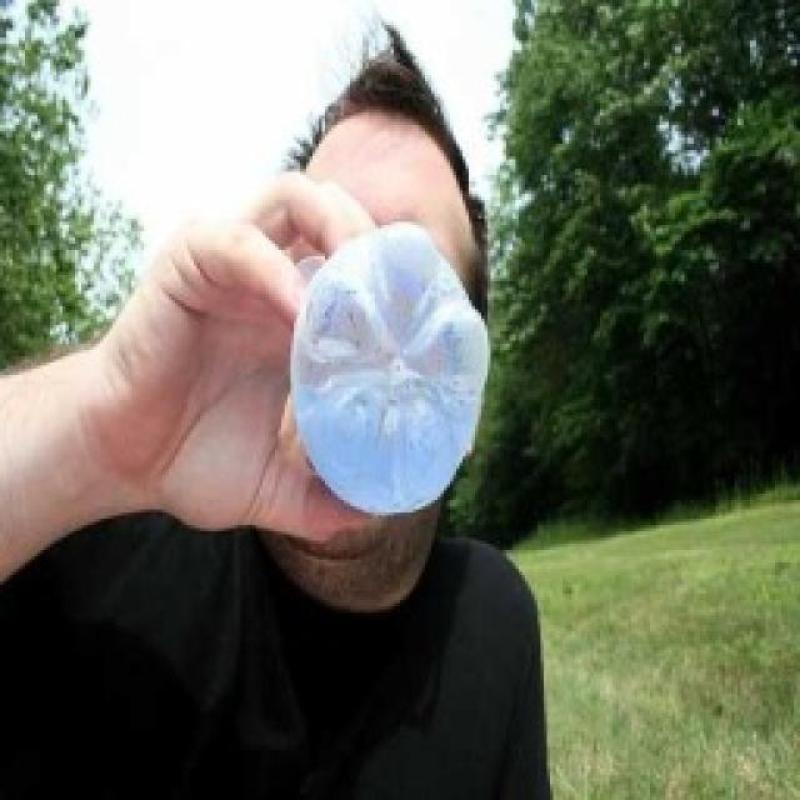botella: (288, 224, 493, 516)
